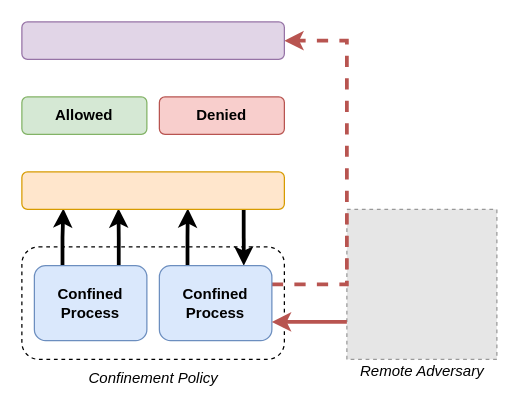
The diagram is 519 pixels wide and 413 high, and some of its shapes have lost their labels. Grey dashed boxes stand in for pictures. The box of each missing label's shape, as (x1, y1, x2, y2) in pixels:
Enforcement Engine: (21, 171, 284, 209)
System Resources: (21, 21, 284, 59)
